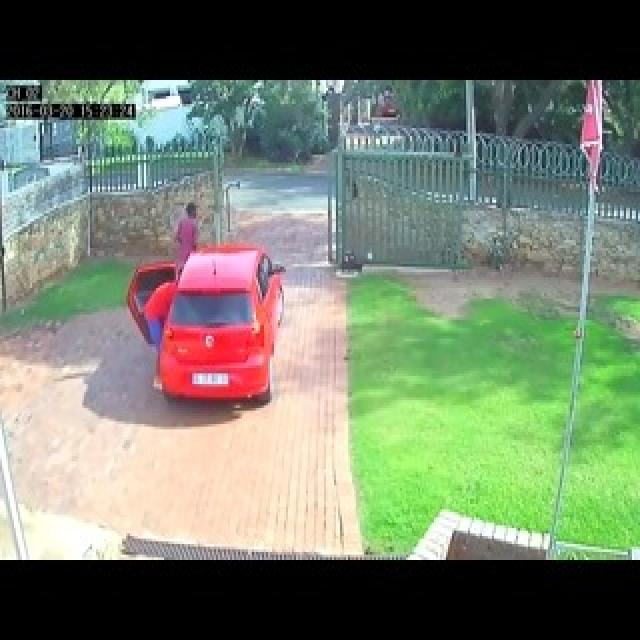thief: (136, 271, 184, 357), (167, 184, 210, 248)
